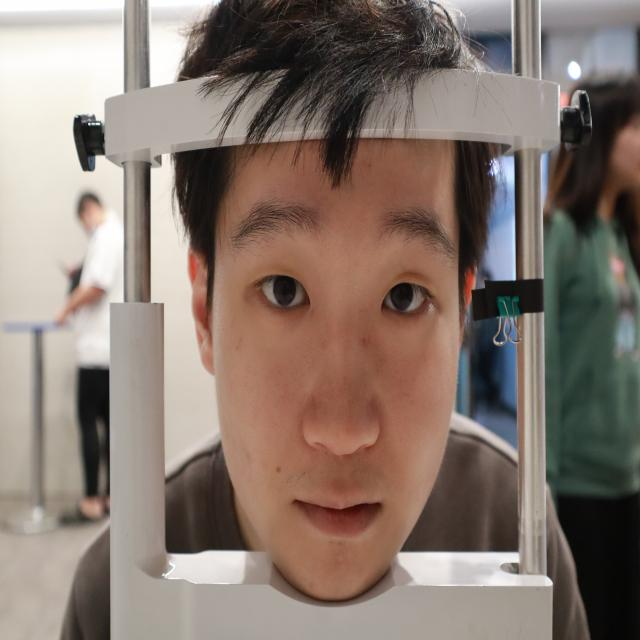gaze: (271, 274, 299, 308), (389, 280, 415, 312)
